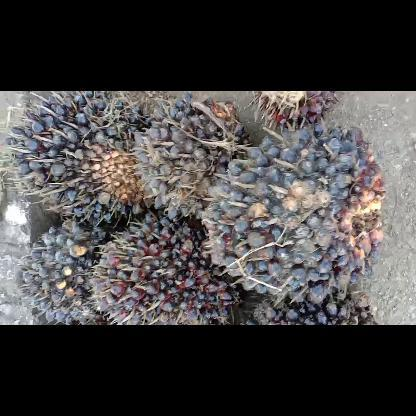TBS mentah: (203, 121, 388, 303), (0, 91, 157, 226), (88, 210, 244, 324), (132, 93, 254, 221), (17, 216, 123, 324)
